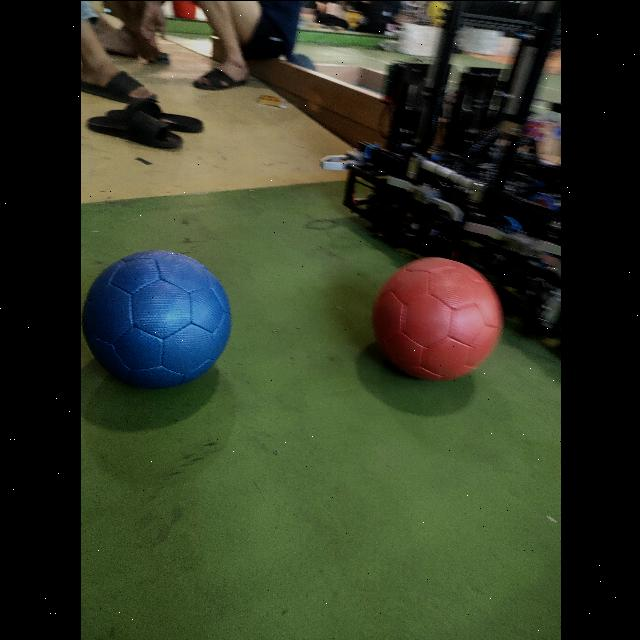B: (80, 250, 232, 390)
R: (370, 256, 502, 380)
